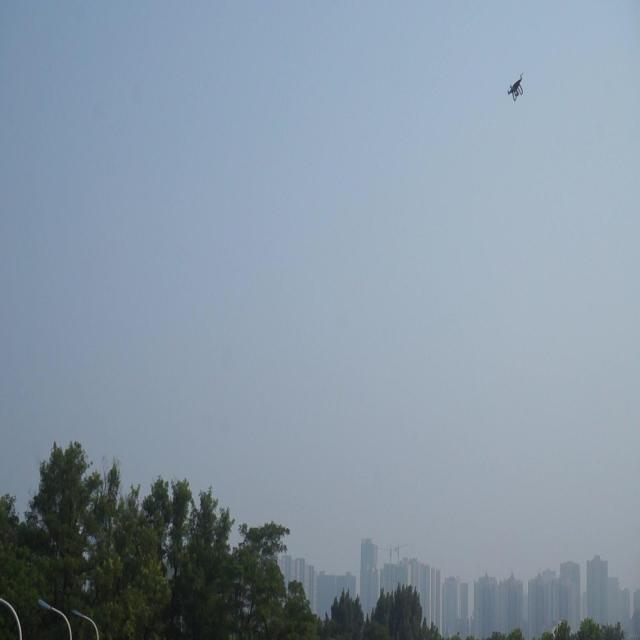drone: (506, 72, 524, 102)
